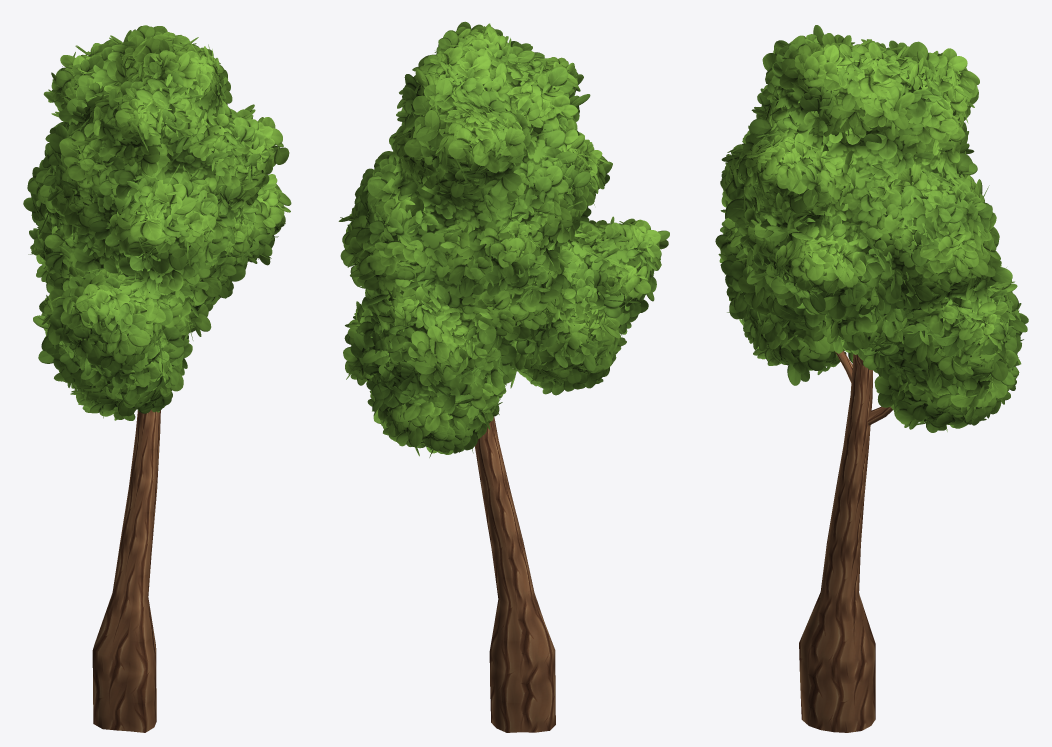
The model's file is aspen_v2.glb.
3 views of the same model, side by side, from view 1: azimuth 30°, elevation 25°; view 2: azimuth 150°, elevation 25°; view 3: azimuth 270°, elevation 25° (orthographic). The views are drawn at different scales.
Visible parts, largest first — view 1: aspen_v2_leaves_LOD0, aspen_v2_trunk_LOD0, aspen_v2_volume_LOD0; view 2: aspen_v2_leaves_LOD0, aspen_v2_volume_LOD0, aspen_v2_trunk_LOD0; view 3: aspen_v2_leaves_LOD0, aspen_v2_trunk_LOD0, aspen_v2_volume_LOD0.
Part boxes in pixels (left/top/right/bottom): aspen_v2_leaves_LOD0: left=23, top=25, right=291, bottom=420; aspen_v2_trunk_LOD0: left=92, top=410, right=160, bottom=732; aspen_v2_volume_LOD0: left=42, top=49, right=276, bottom=407; aspen_v2_leaves_LOD0: left=338, top=21, right=669, bottom=457; aspen_v2_volume_LOD0: left=355, top=49, right=655, bottom=441; aspen_v2_trunk_LOD0: left=475, top=416, right=555, bottom=732; aspen_v2_leaves_LOD0: left=715, top=25, right=1028, bottom=432; aspen_v2_trunk_LOD0: left=799, top=350, right=892, bottom=732; aspen_v2_volume_LOD0: left=731, top=55, right=1005, bottom=421.
Size of what is drawn, in the model's own units: 5.21 by 12.41 by 5.22.
Materials: 3 (3 with a texture image).
